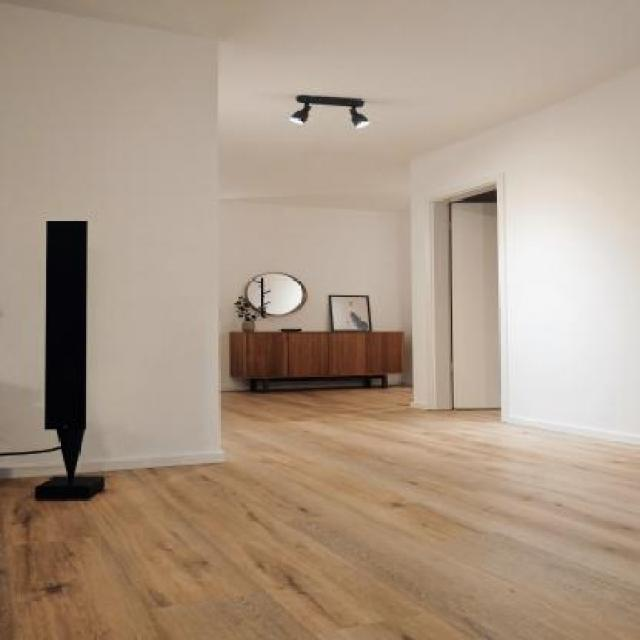Floor: (0, 384, 639, 640)
